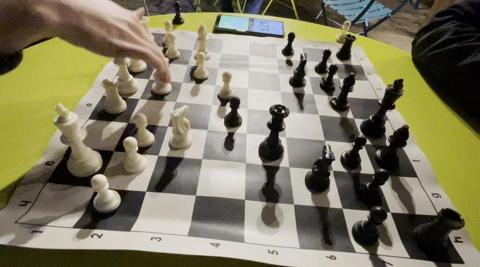xcorner: (272, 52, 283, 63), (188, 44, 199, 55), (213, 61, 224, 72), (308, 87, 319, 98), (243, 81, 254, 92), (210, 78, 221, 89), (177, 75, 188, 86), (313, 108, 324, 119), (358, 136, 369, 147), (202, 122, 213, 133), (327, 163, 338, 174), (240, 155, 251, 166), (239, 192, 250, 203), (300, 55, 311, 65), (244, 50, 255, 60), (216, 47, 227, 57), (274, 67, 284, 78), (244, 64, 254, 75), (183, 59, 194, 69), (341, 90, 351, 101), (276, 84, 286, 95), (145, 72, 155, 83), (349, 111, 359, 122), (242, 102, 253, 112), (207, 98, 217, 109), (281, 129, 291, 140), (241, 126, 252, 136), (123, 115, 134, 125), (370, 167, 381, 177), (284, 159, 294, 170), (197, 151, 207, 162), (190, 188, 200, 199), (91, 179, 101, 190), (328, 58, 338, 68), (160, 42, 170, 52), (334, 73, 344, 83), (304, 70, 314, 80), (153, 56, 163, 66), (278, 105, 288, 115), (171, 95, 181, 105), (135, 92, 145, 102), (320, 133, 330, 143), (163, 119, 173, 129), (153, 148, 163, 158), (109, 144, 119, 154), (385, 205, 395, 215), (337, 201, 347, 211), (288, 197, 298, 207), (141, 184, 151, 194)
